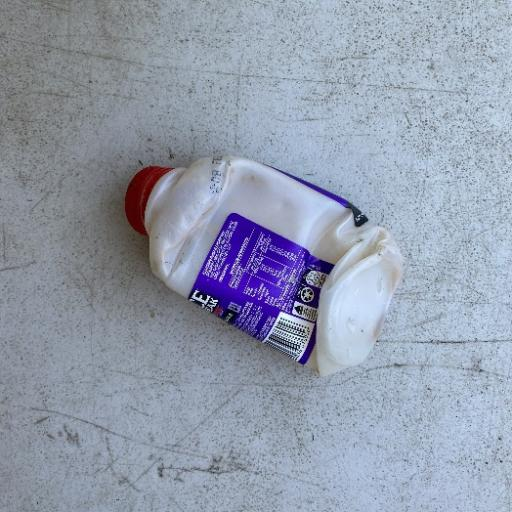Plastic: (121, 153, 407, 379)
